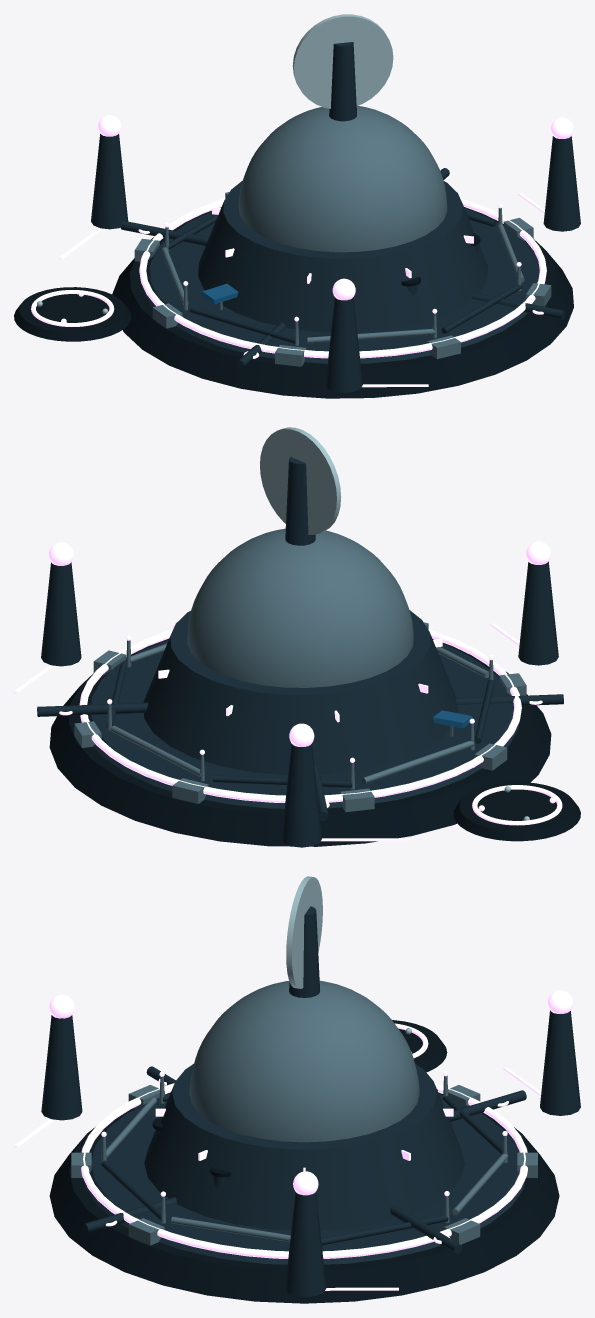
File: researchLab-stage2.glb
3 views of the same model, one above another, from view 1: azimuth 30°, elevation 25°; view 2: azimuth 150°, elevation 25°; view 3: azimuth 270°, elevation 25° (orthographic). The views are drawn at different scales.
Parts seen in each view (by area): view 1: observatory-dome, laboratory-base, armored-foundation, upper-deck, deep-space-dish, landing-pad, perimeter-light, energy-pylon-0, energy-pylon-2, energy-pylon-1, sensor-spire, landing-guidance-light (+9 smaller); view 2: observatory-dome, laboratory-base, armored-foundation, upper-deck, deep-space-dish, landing-pad, perimeter-light, energy-pylon-0, energy-pylon-2, energy-pylon-1, sensor-spire, utility-conduit-2 (+8 smaller); view 3: observatory-dome, laboratory-base, armored-foundation, upper-deck, perimeter-light, energy-pylon-0, energy-pylon-2, energy-pylon-1, deep-space-dish, sensor-spire, landing-pad, service-catwalk-7 (+9 smaller).
Boxes of the visible parts, left/top/right/bottom form: observatory-dome: left=238, top=106, right=447, bottom=252; laboratory-base: left=198, top=181, right=487, bottom=332; armored-foundation: left=112, top=207, right=573, bottom=398; upper-deck: left=142, top=208, right=545, bottom=363; deep-space-dish: left=292, top=14, right=393, bottom=108; landing-pad: left=14, top=287, right=131, bottom=341; perimeter-light: left=139, top=198, right=546, bottom=358; energy-pylon-0: left=325, top=297, right=362, bottom=392; energy-pylon-2: left=543, top=136, right=580, bottom=231; energy-pylon-1: left=91, top=133, right=128, bottom=229; sensor-spire: left=329, top=42, right=356, bottom=121; landing-guidance-light: left=31, top=290, right=114, bottom=326; observatory-dome: left=187, top=528, right=413, bottom=687; laboratory-base: left=143, top=610, right=457, bottom=774; armored-foundation: left=49, top=638, right=551, bottom=846; upper-deck: left=81, top=640, right=518, bottom=808; deep-space-dish: left=260, top=427, right=341, bottom=534; landing-pad: left=453, top=782, right=580, bottom=841; perimeter-light: left=79, top=629, right=521, bottom=802; energy-pylon-0: left=518, top=561, right=558, bottom=665; energy-pylon-2: left=41, top=562, right=81, bottom=666; energy-pylon-1: left=281, top=744, right=321, bottom=847; sensor-spire: left=285, top=457, right=315, bottom=545; utility-conduit-2: left=37, top=702, right=148, bottom=716; observatory-dome: left=189, top=980, right=419, bottom=1142; laboratory-base: left=144, top=1063, right=464, bottom=1230; armored-foundation: left=49, top=1092, right=559, bottom=1303; upper-deck: left=83, top=1094, right=525, bottom=1264; perimeter-light: left=81, top=1083, right=527, bottom=1258; energy-pylon-0: left=41, top=1015, right=82, bottom=1120; energy-pylon-2: left=285, top=1191, right=326, bottom=1296; energy-pylon-1: left=540, top=1010, right=580, bottom=1115; deep-space-dish: left=286, top=876, right=322, bottom=988; sensor-spire: left=289, top=906, right=319, bottom=997; landing-pad: left=392, top=1020, right=447, bottom=1072; service-catwalk-7: left=171, top=1216, right=290, bottom=1241.
Bounding box in the file's own units: 12.59 × 6.58 × 10.75.
